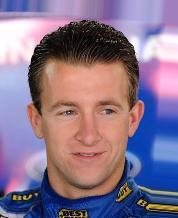face: (50, 99, 124, 163)
